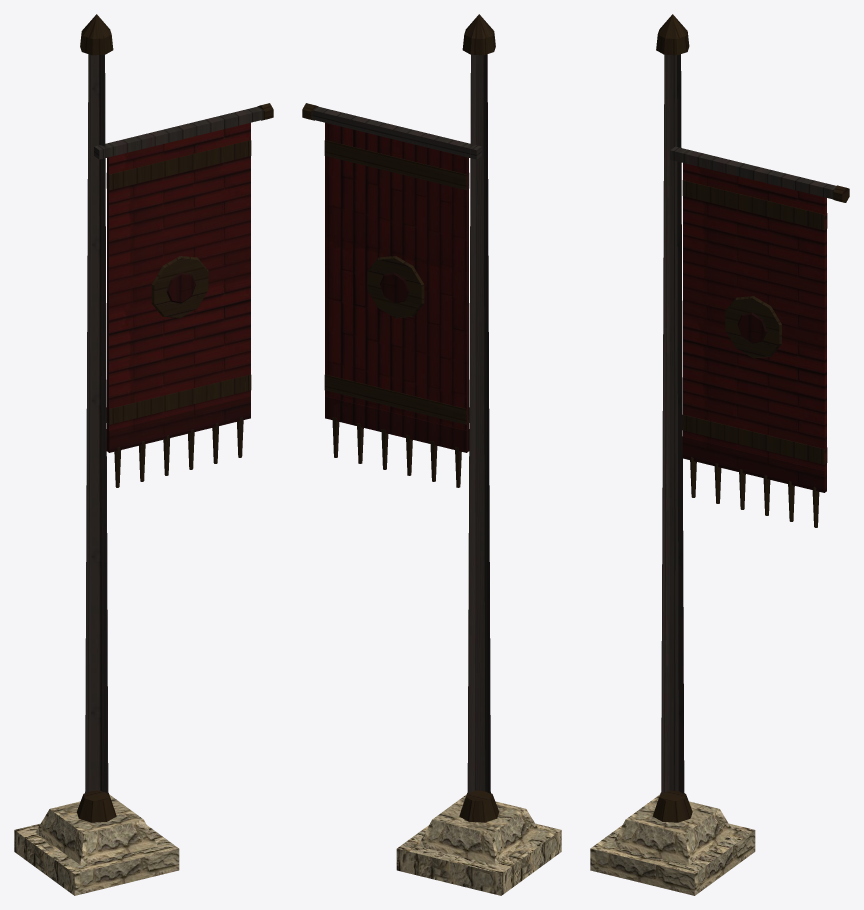
File: banner_pole_01.glb
The picture shows the model from 3 angles, left to right: view 1: azimuth 30°, elevation 25°; view 2: azimuth 150°, elevation 25°; view 3: azimuth 330°, elevation 25°; orthographic projection.
Parts seen in each view (by area): view 1: banner_pole_01; view 2: banner_pole_01; view 3: banner_pole_01.
Part boxes in pixels (<box>): banner_pole_01: <box>14,14,273,895</box>; banner_pole_01: <box>302,14,561,895</box>; banner_pole_01: <box>590,14,849,895</box>.
Size of the model in its own units: 1.51 by 5.42 by 0.7.
Materials: 5 (5 with a texture image).
